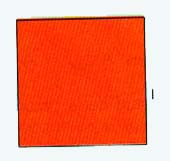cuadrado: (15, 15, 148, 148)
